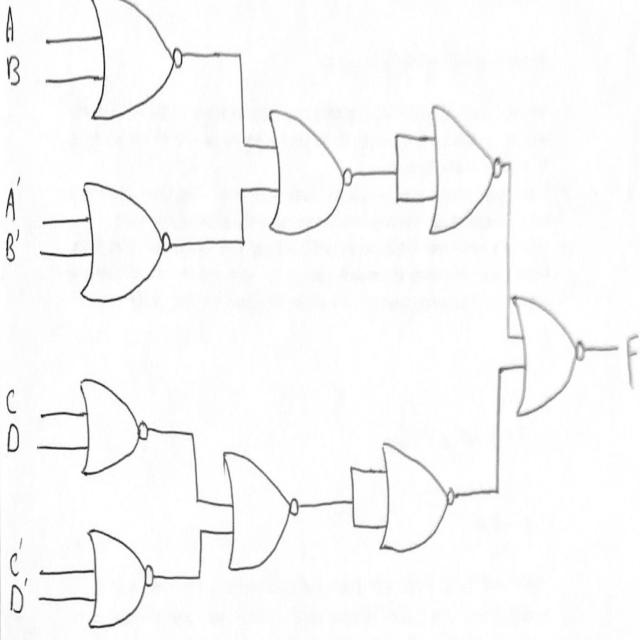NOR: (71, 172, 181, 313), (265, 94, 360, 250), (74, 0, 189, 128), (368, 425, 460, 574), (213, 433, 300, 579), (421, 95, 506, 237), (511, 287, 589, 433), (74, 514, 160, 640), (72, 361, 156, 478)
